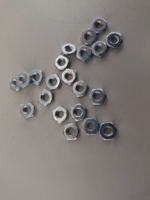nut: (100, 122, 118, 141), (72, 80, 90, 98), (83, 118, 100, 135), (63, 123, 80, 140), (90, 88, 107, 105), (61, 68, 78, 85), (52, 106, 68, 124), (106, 32, 124, 48), (45, 75, 64, 90), (20, 102, 37, 118), (38, 89, 54, 106), (76, 46, 93, 62), (71, 105, 87, 121), (92, 41, 108, 57), (29, 70, 44, 87), (91, 18, 108, 33), (17, 71, 31, 89), (81, 29, 96, 45), (55, 56, 71, 70), (61, 43, 76, 57), (10, 75, 20, 92)
